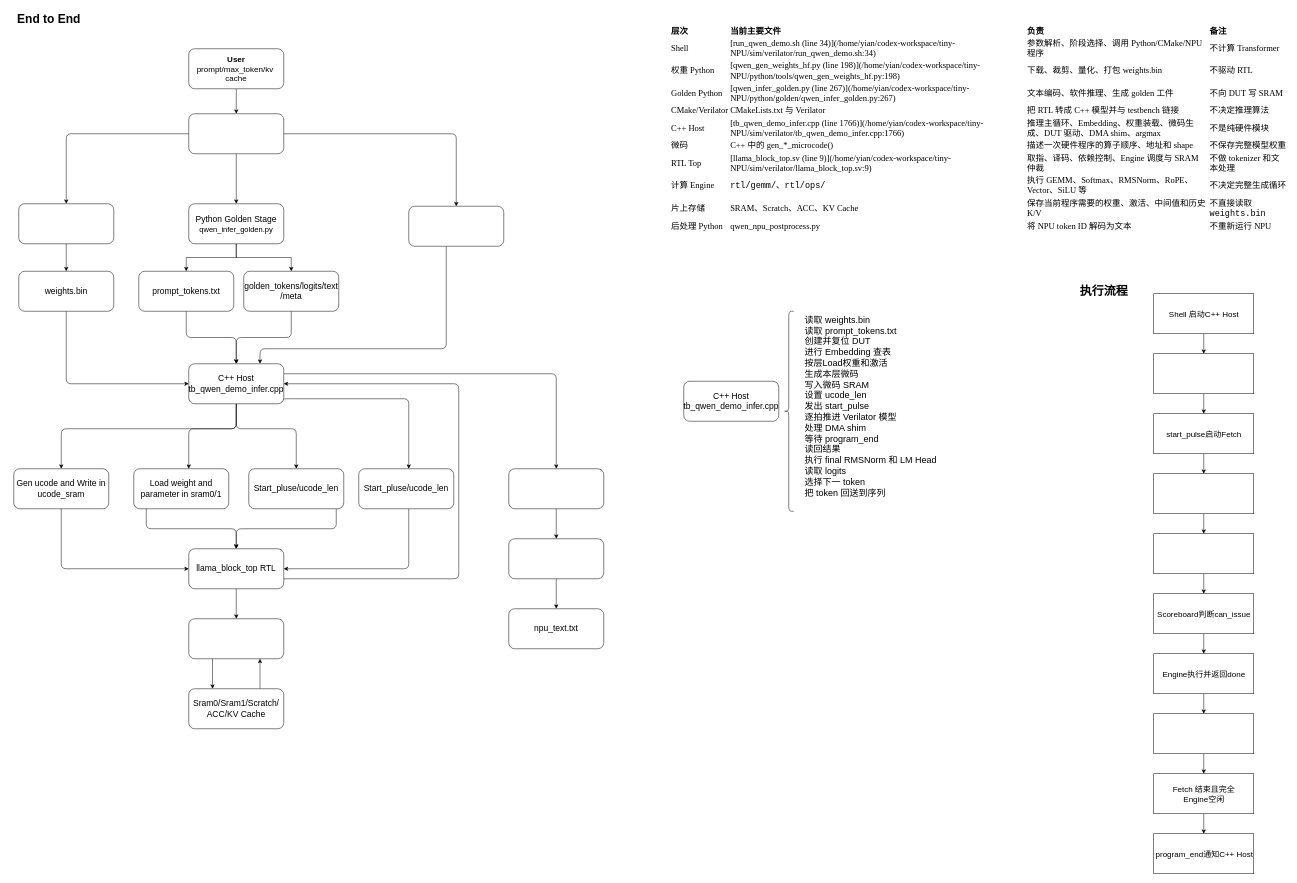
The diagram is 1297 pixels wide and 883 high, and some of its shapes have lost their labels. Here are the shapes that lost their labels. From the top down, the centre of each, then its label:
At [236,133]: "Shell run_qwen_demo.sh".
At [66,223]: "Python download weights qwen_gen_weights_hf.py".
At [456,226]: "Build CMake+Verilator".
At [1203,373]: "C++生成并写入ucode".
At [556,488]: "npu_token.txt".
At [1203,493]: "Fetch读取ucode_sram".
At [556,558]: "Python Text postprocess qwen_npu_postprocess.py".
At [1203,553]: "Decode译码并选择Engine".
At [236,638]: "Fetch/Decode/ Scoreboard/Engine".
At [1203,733]: "Scoreboard清除busy".
